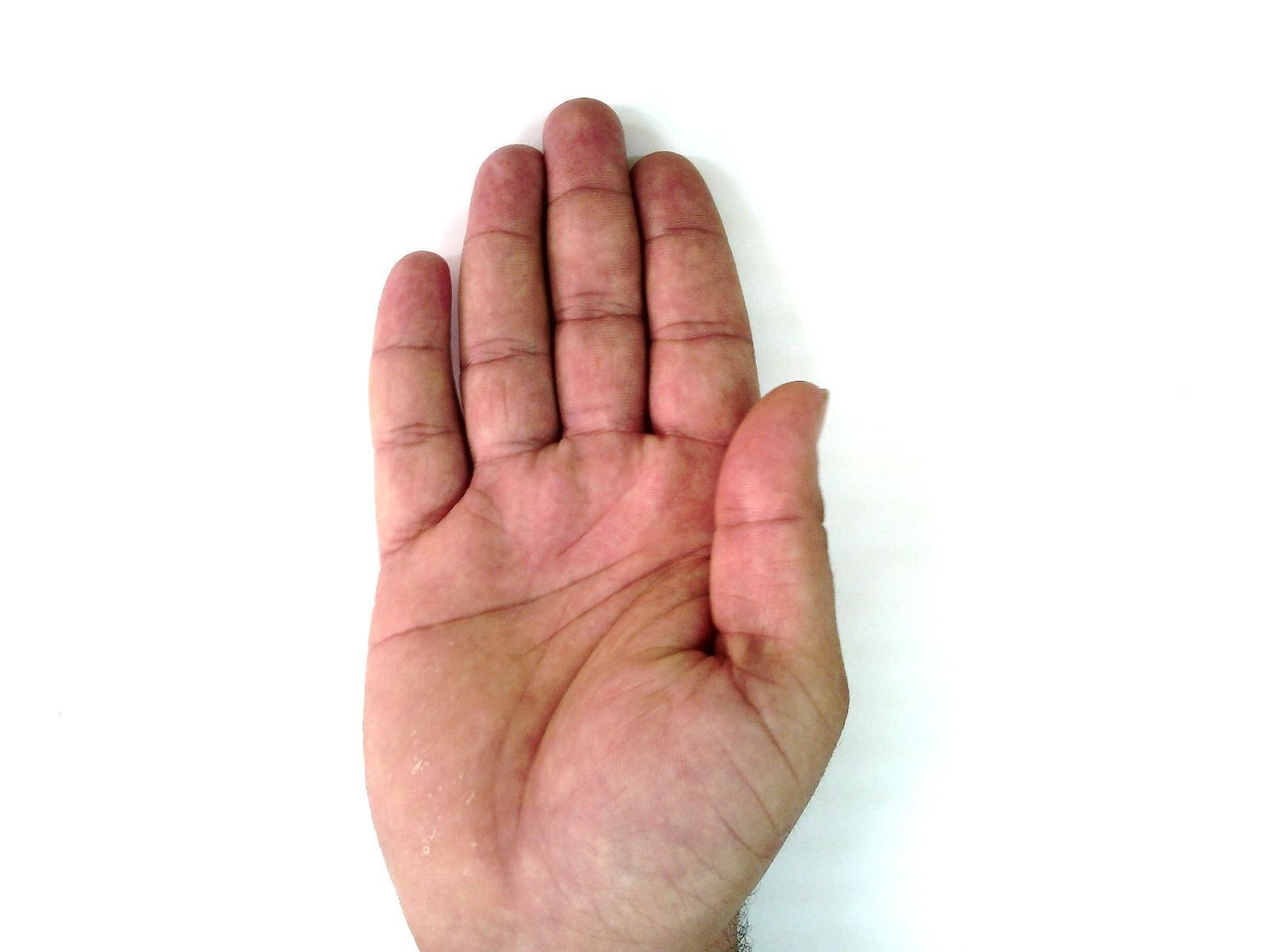open_palm: (358, 97, 853, 950)
